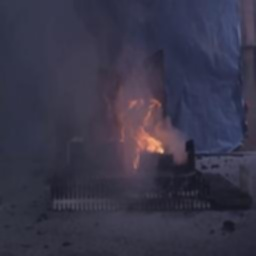fire: (124, 91, 168, 157)
